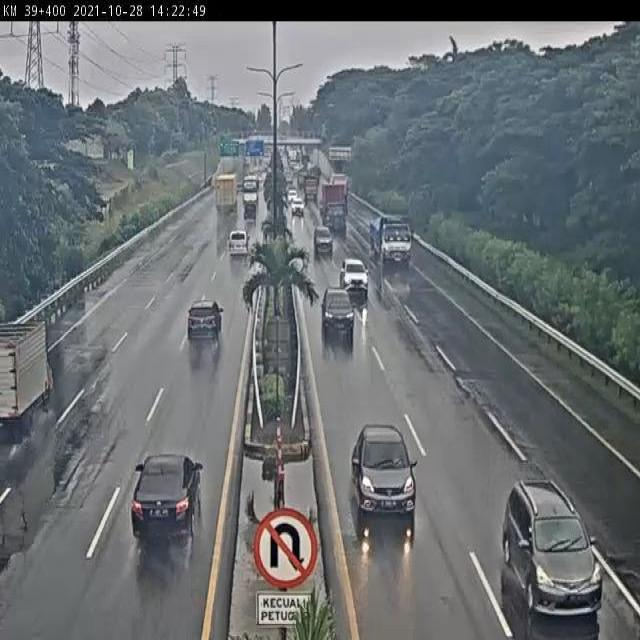big truck: (370, 212, 413, 265), (321, 185, 345, 235), (216, 174, 239, 218)
car: (504, 479, 599, 617), (351, 422, 417, 522), (132, 453, 201, 536), (320, 288, 354, 339), (185, 302, 225, 342), (341, 259, 365, 297), (230, 230, 250, 254), (314, 225, 327, 255), (242, 202, 256, 222)
